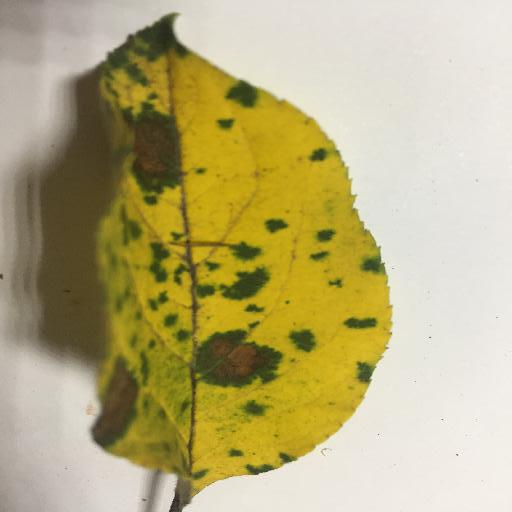Brown_Spot: (194, 334, 275, 384), (132, 116, 179, 187), (100, 364, 139, 446)
